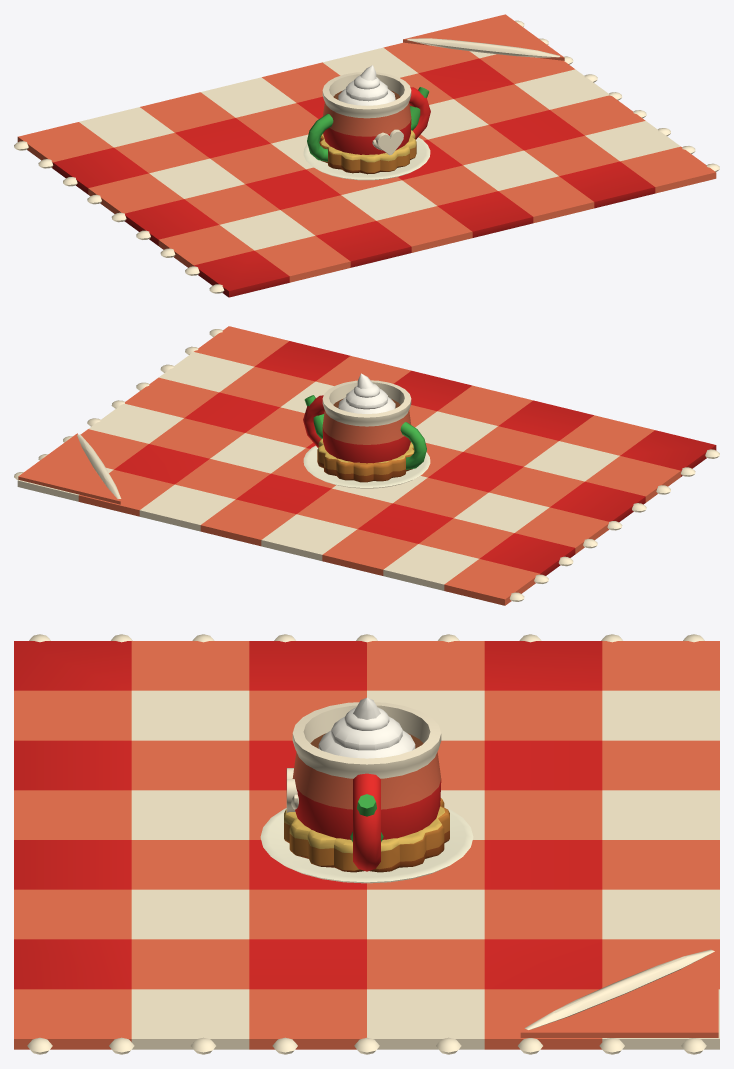
The model's file is items_cafe-canopy.glb.
The picture shows the model from 3 angles, top to bottom: view 1: azimuth 30°, elevation 25°; view 2: azimuth 150°, elevation 25°; view 3: azimuth 270°, elevation 25°; orthographic projection. The views are drawn at different scales.
Parts seen in each view (by area): view 1: eat-picnicmat, eat-mug, eat-tart, eat-teapot; view 2: eat-picnicmat, eat-mug, eat-tart, eat-teapot; view 3: eat-picnicmat, eat-mug, eat-tart.
Part boxes in pixels (bbox=[...]): eat-picnicmat: bbox=[14, 14, 719, 297]; eat-mug: bbox=[322, 65, 430, 155]; eat-tart: bbox=[303, 130, 430, 180]; eat-teapot: bbox=[307, 87, 429, 161]; eat-picnicmat: bbox=[14, 326, 719, 605]; eat-mug: bbox=[303, 373, 411, 463]; eat-tart: bbox=[303, 438, 430, 488]; eat-teapot: bbox=[304, 395, 426, 469]; eat-picnicmat: bbox=[14, 634, 719, 1054]; eat-mug: bbox=[286, 697, 441, 871]; eat-tart: bbox=[260, 798, 473, 883].
Size of the model in its own units: 1.99 by 0.352 by 1.42.
